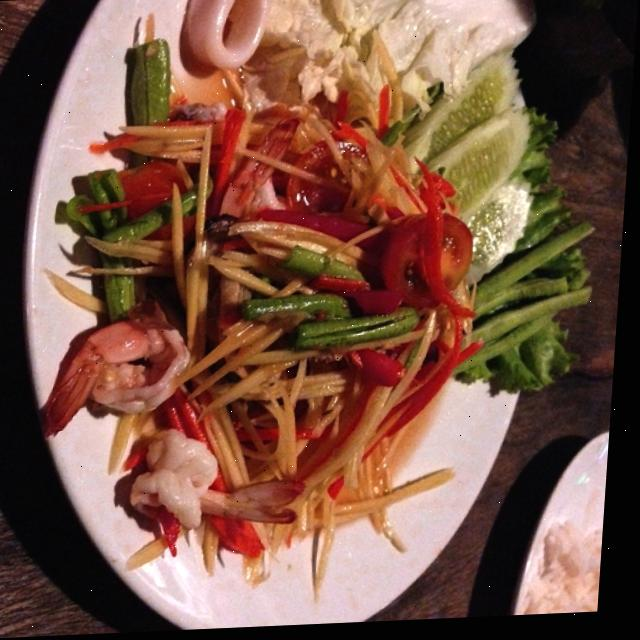蔬菜料理: (42, 13, 587, 579)
